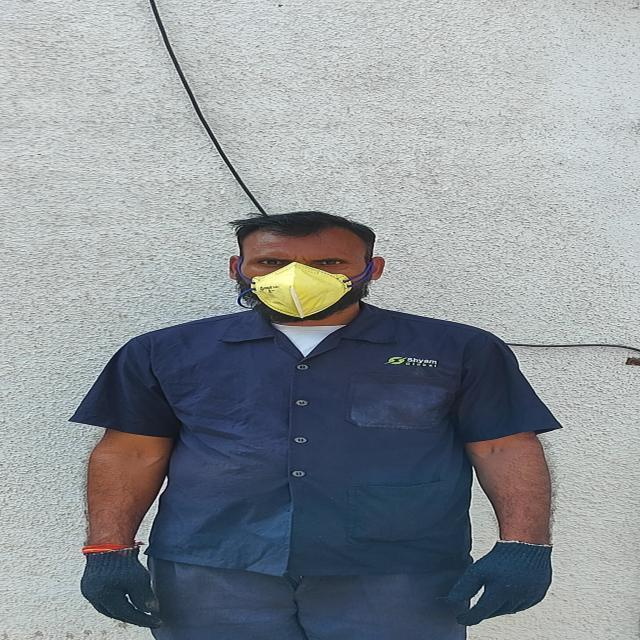gloved_hand: (436, 540, 587, 638), (49, 548, 207, 638)
